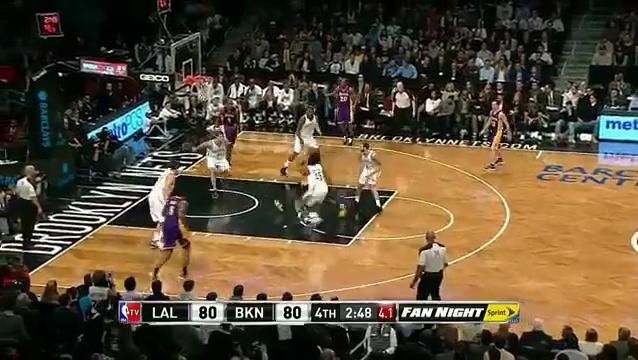Backboard: (171, 32, 203, 89)
Basket: (193, 73, 215, 104)
Person: (153, 179, 190, 283), (278, 103, 323, 178), (147, 161, 179, 252), (298, 147, 331, 227), (198, 130, 234, 195), (353, 140, 385, 213), (481, 99, 511, 173), (326, 77, 358, 146), (217, 98, 241, 167)
Referee: (7, 164, 45, 248), (412, 228, 450, 302), (390, 80, 418, 142)
Shot Clock: (37, 8, 64, 43), (153, 0, 175, 32)
